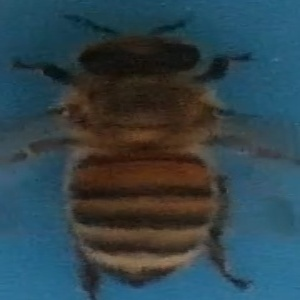bee: (5, 13, 287, 300)
